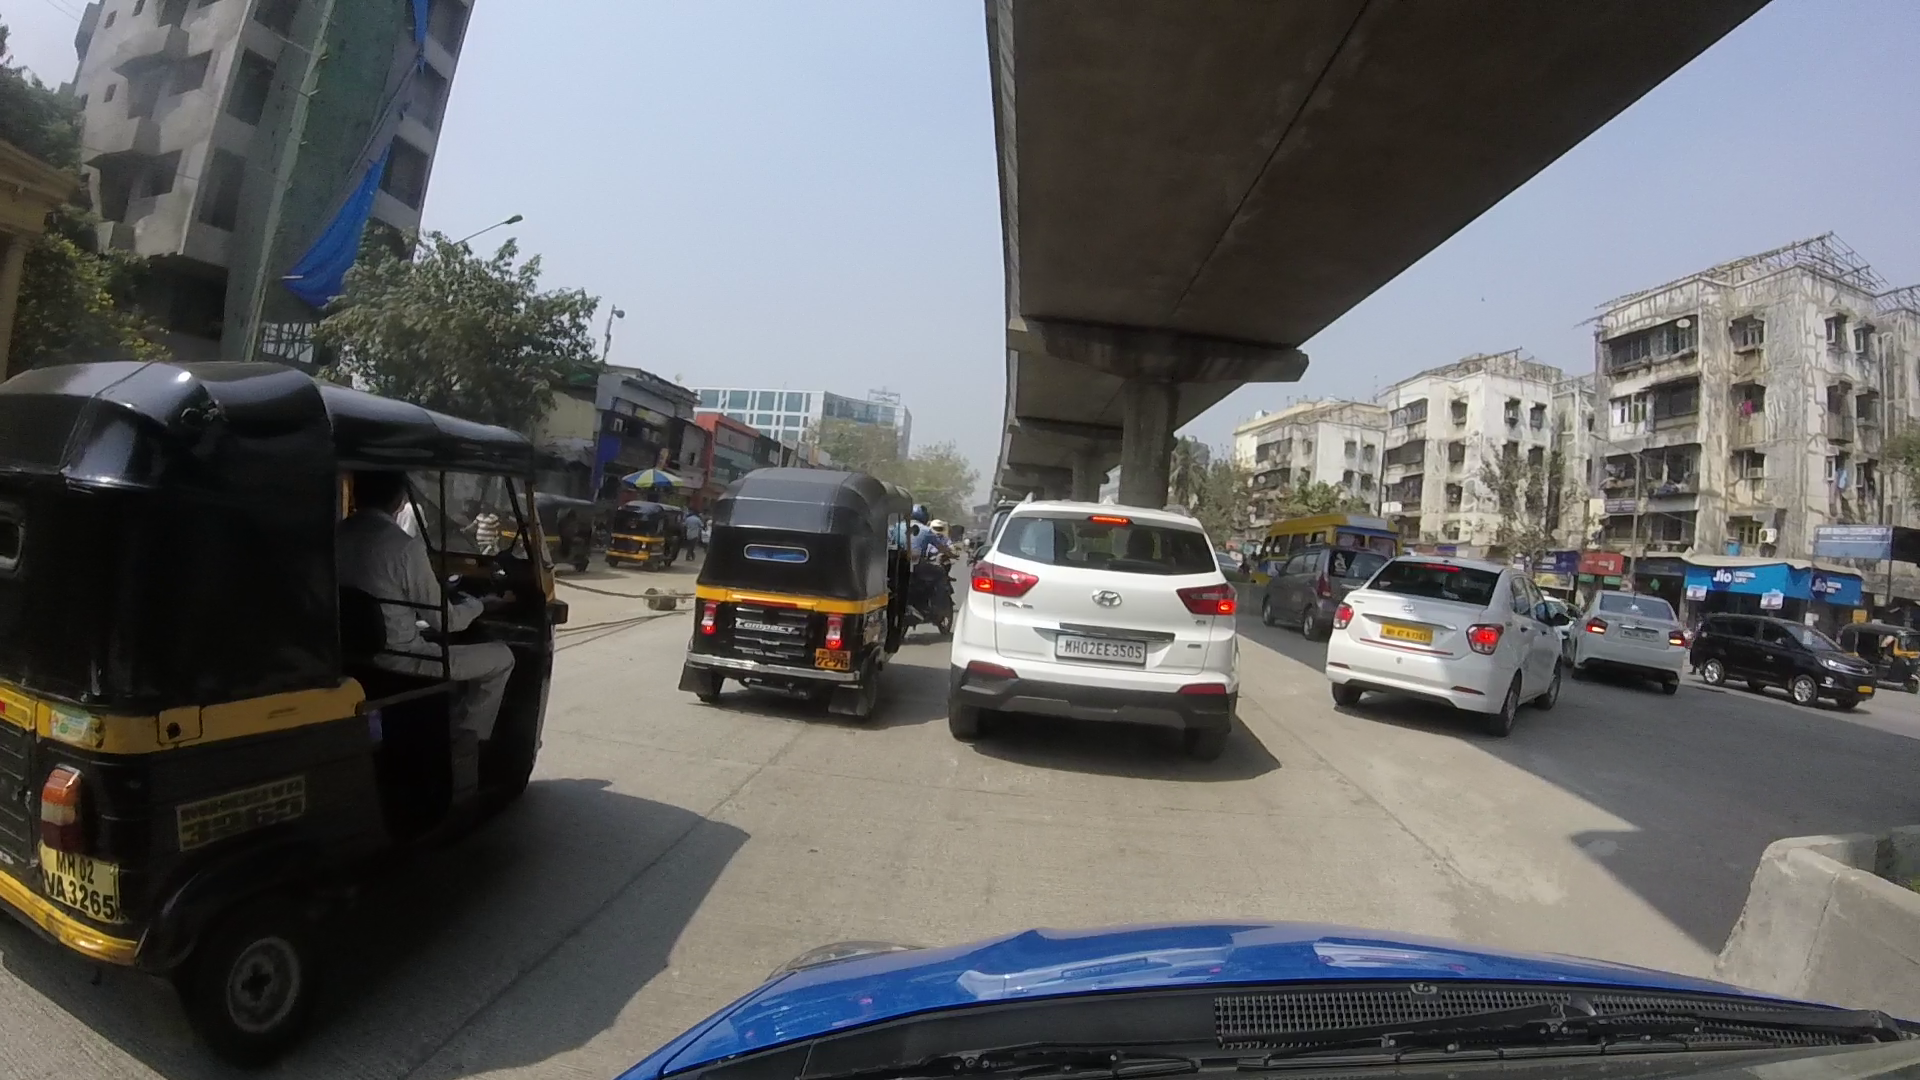car: (940, 495, 1240, 716), (1319, 553, 1569, 735), (1578, 585, 1702, 683)
cat: (1712, 601, 1878, 704)
rickshaw: (11, 363, 568, 1039), (684, 465, 895, 695), (603, 501, 666, 563)
